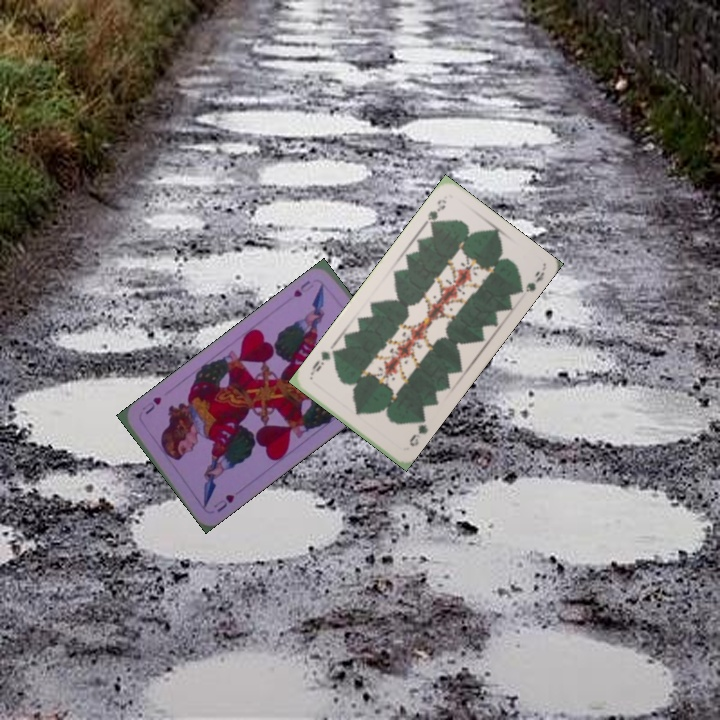G9: (419, 195, 449, 229), (405, 414, 431, 449)
HU: (209, 490, 237, 515), (289, 276, 317, 300)
